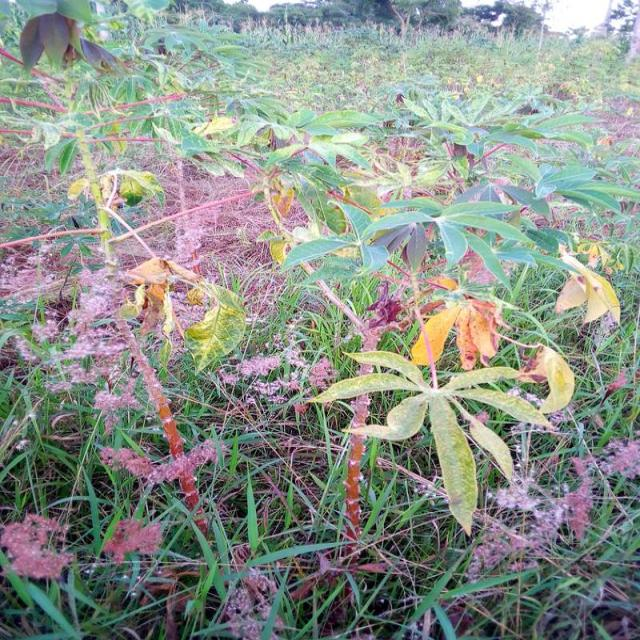cassava leaf: (429, 392, 479, 536)
